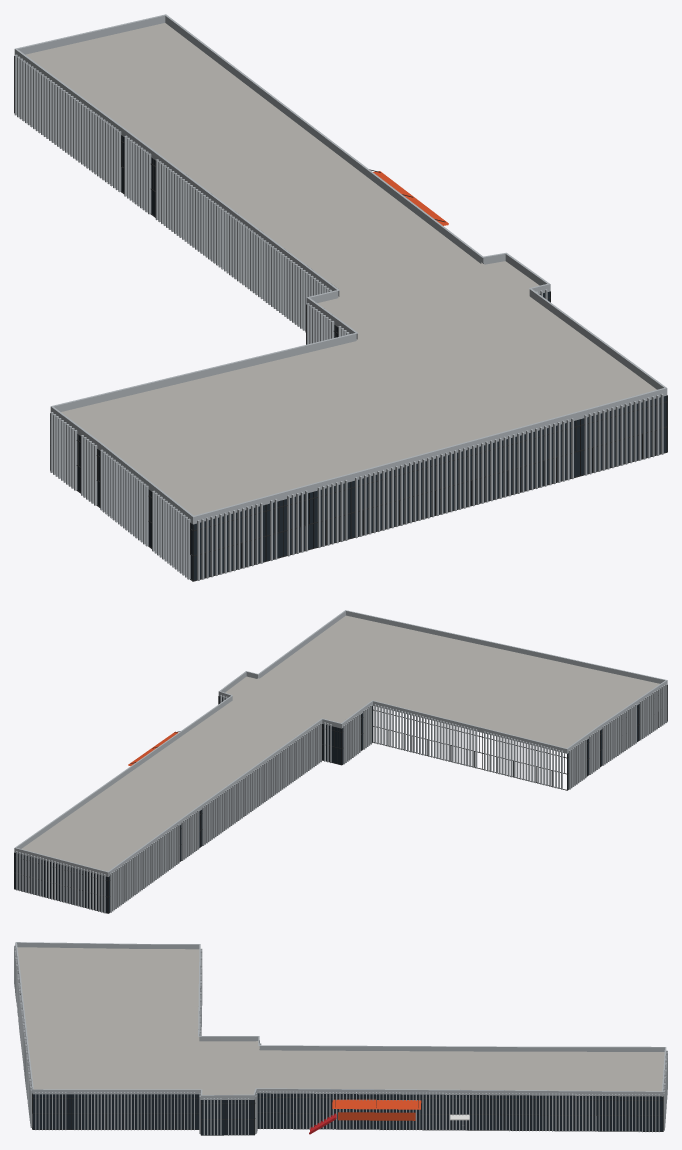
Rendered from callier_center_richardson_addition.glb.
3 views of the same model, one above another, from view 1: azimuth 30°, elevation 25°; view 2: azimuth 150°, elevation 25°; view 3: azimuth 270°, elevation 25° (orthographic). The views are drawn at different scales.
Parts seen in each view (by area): view 1: callier_center_richardson_addition_Roof_Membrane, callier_center_richardson_addition_Wall_silver, callier_center_richardson_addition_Glass_dark, callier_center_richardson_addition_Frame_Dark; view 2: callier_center_richardson_addition_Roof_Membrane, callier_center_richardson_addition_Wall_silver, callier_center_richardson_addition_Glass_dark, callier_center_richardson_addition_Frame_Dark; view 3: callier_center_richardson_addition_Roof_Membrane, callier_center_richardson_addition_Wall_silver, callier_center_richardson_addition_Glass_dark, callier_center_richardson_addition_Frame_Dark, callier_center_richardson_addition_Screen_Orange.
Part boxes in pixels (bbox=[...]): callier_center_richardson_addition_Roof_Membrane: bbox=[25, 23, 656, 515]; callier_center_richardson_addition_Wall_silver: bbox=[14, 14, 667, 580]; callier_center_richardson_addition_Glass_dark: bbox=[77, 136, 666, 580]; callier_center_richardson_addition_Frame_Dark: bbox=[14, 56, 667, 581]; callier_center_richardson_addition_Roof_Membrane: bbox=[21, 615, 659, 871]; callier_center_richardson_addition_Wall_silver: bbox=[14, 610, 667, 913]; callier_center_richardson_addition_Glass_dark: bbox=[14, 696, 639, 912]; callier_center_richardson_addition_Frame_Dark: bbox=[14, 685, 667, 913]; callier_center_richardson_addition_Roof_Membrane: bbox=[17, 947, 664, 1096]; callier_center_richardson_addition_Wall_silver: bbox=[14, 942, 667, 1135]; callier_center_richardson_addition_Glass_dark: bbox=[33, 1093, 662, 1134]; callier_center_richardson_addition_Frame_Dark: bbox=[17, 968, 663, 1135]; callier_center_richardson_addition_Screen_Orange: bbox=[332, 1099, 421, 1120].
Bounding box in the file's own units: 66.69 × 8.03 × 118.
